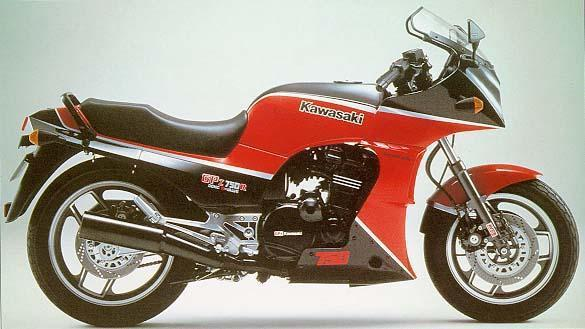motorcycle: (6, 1, 585, 329)
